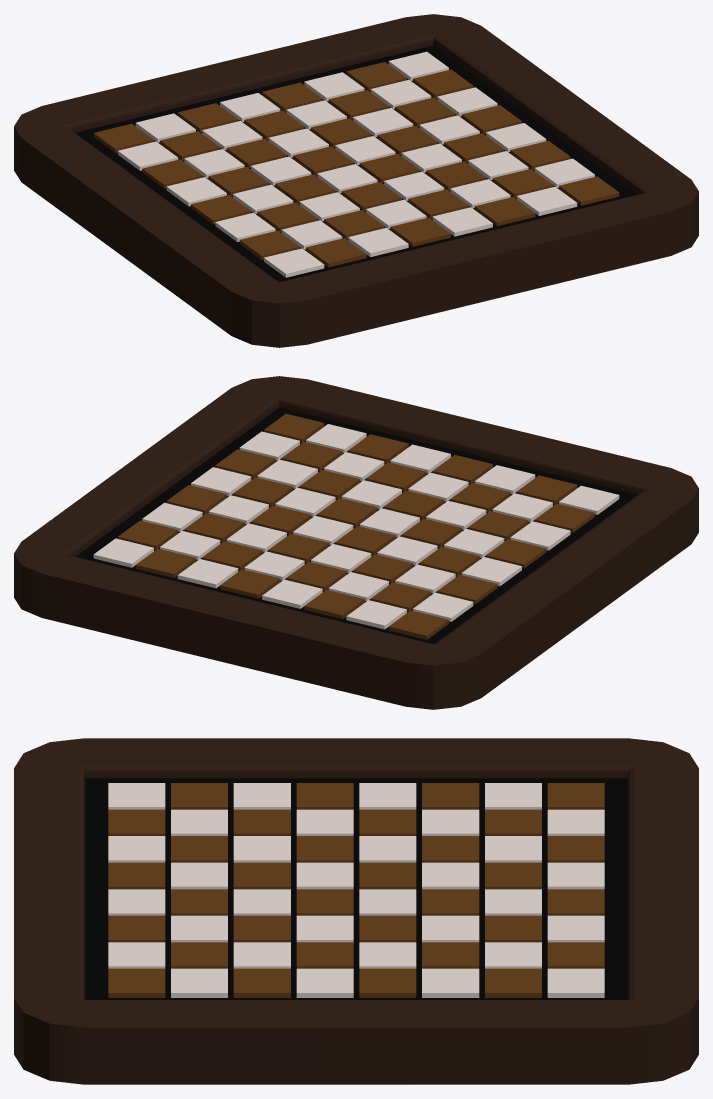
File: board.fbx
The picture shows the model from 3 angles, top to bottom: view 1: azimuth 30°, elevation 25°; view 2: azimuth 150°, elevation 25°; view 3: azimuth 270°, elevation 25°; orthographic projection. The views are drawn at different scales.
Parts seen in each view (by area): view 1: polySurface65; view 2: polySurface65; view 3: polySurface65.
Boxes of the visible parts, x1,y1,x2,y2 form: polySurface65: [14, 14, 698, 347]; polySurface65: [14, 376, 698, 709]; polySurface65: [14, 738, 698, 1084].
Size of the model in its own units: 12 by 1.11 by 12.
